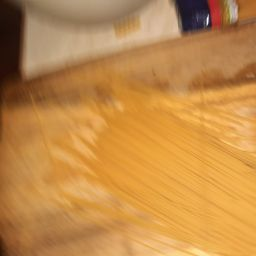Penne pasta: (35, 68, 235, 256)
